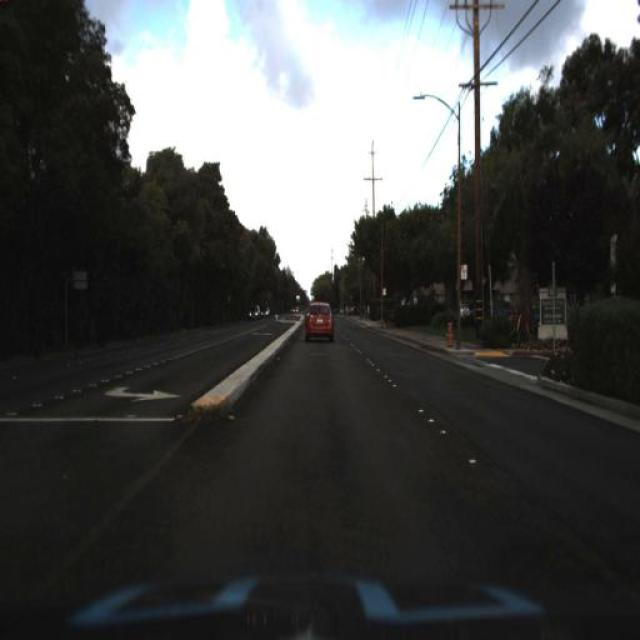car: (303, 299, 339, 341)
